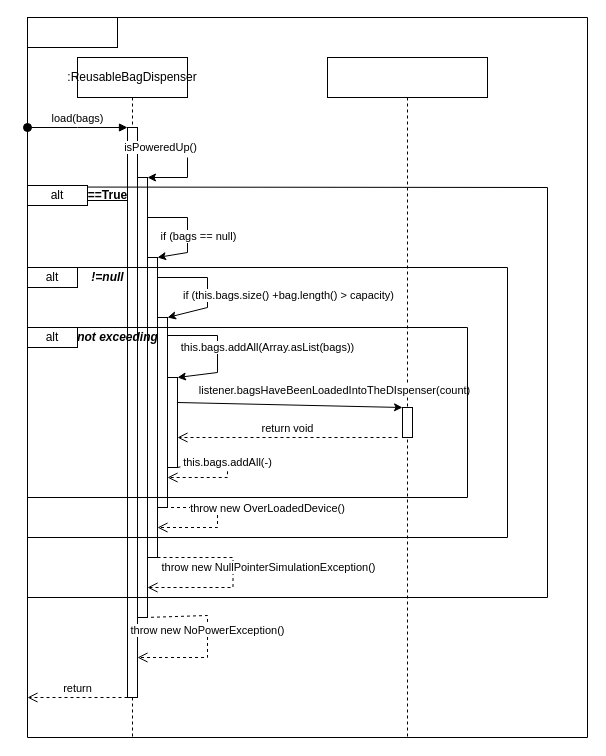
The diagram is 606 pixels wide and 756 high, and some of its shapes have lost their labels. Here are the shapes that lost their labels. From the top down, the box of each, then its label:
(26, 16, 118, 48): SD Bag
(326, 56, 488, 738): :ReusableBagDIspenserListener
